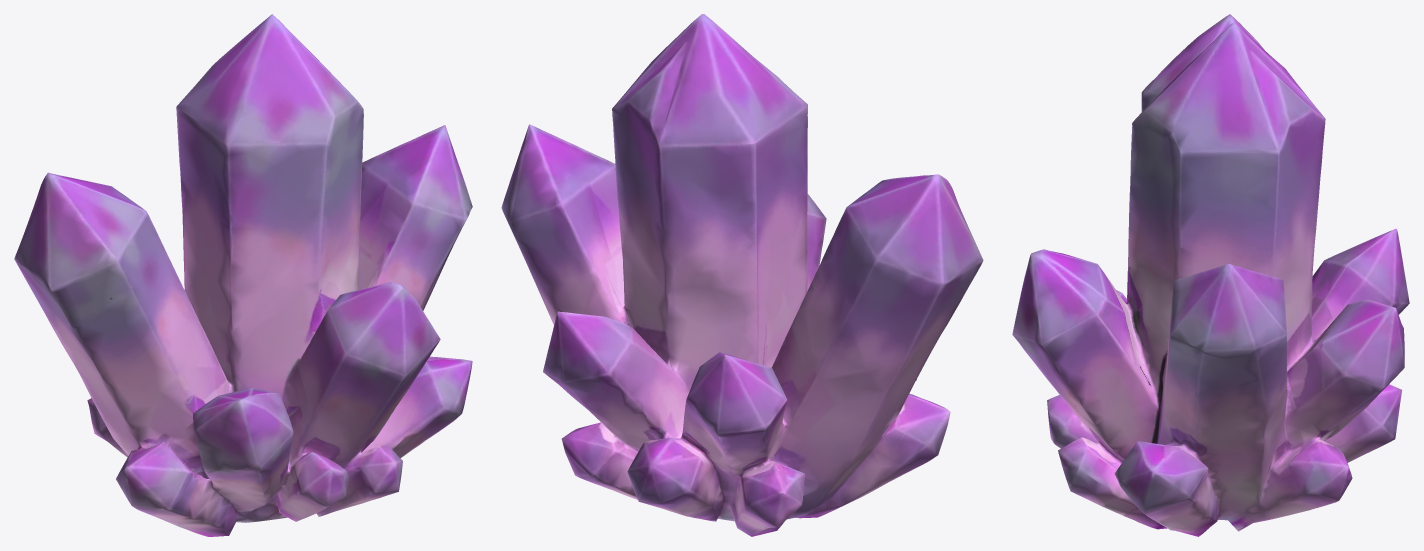
Rendered from crystal_formation.glb.
3 renders of one model, left to right at view 1: azimuth 30°, elevation 25°; view 2: azimuth 150°, elevation 25°; view 3: azimuth 270°, elevation 25°, orthographic. The views are drawn at different scales.
Parts seen in each view (by area): view 1: Mesh1.0; view 2: Mesh1.0; view 3: Mesh1.0.
Boxes of the visible parts, left/top/right/bottom form: Mesh1.0: left=14, top=14, right=472, bottom=536; Mesh1.0: left=501, top=14, right=983, bottom=536; Mesh1.0: left=1012, top=14, right=1409, bottom=536.
Size of the model in its own units: 1.79 by 1.91 by 1.38.
Materials: 1 (1 with a texture image).
